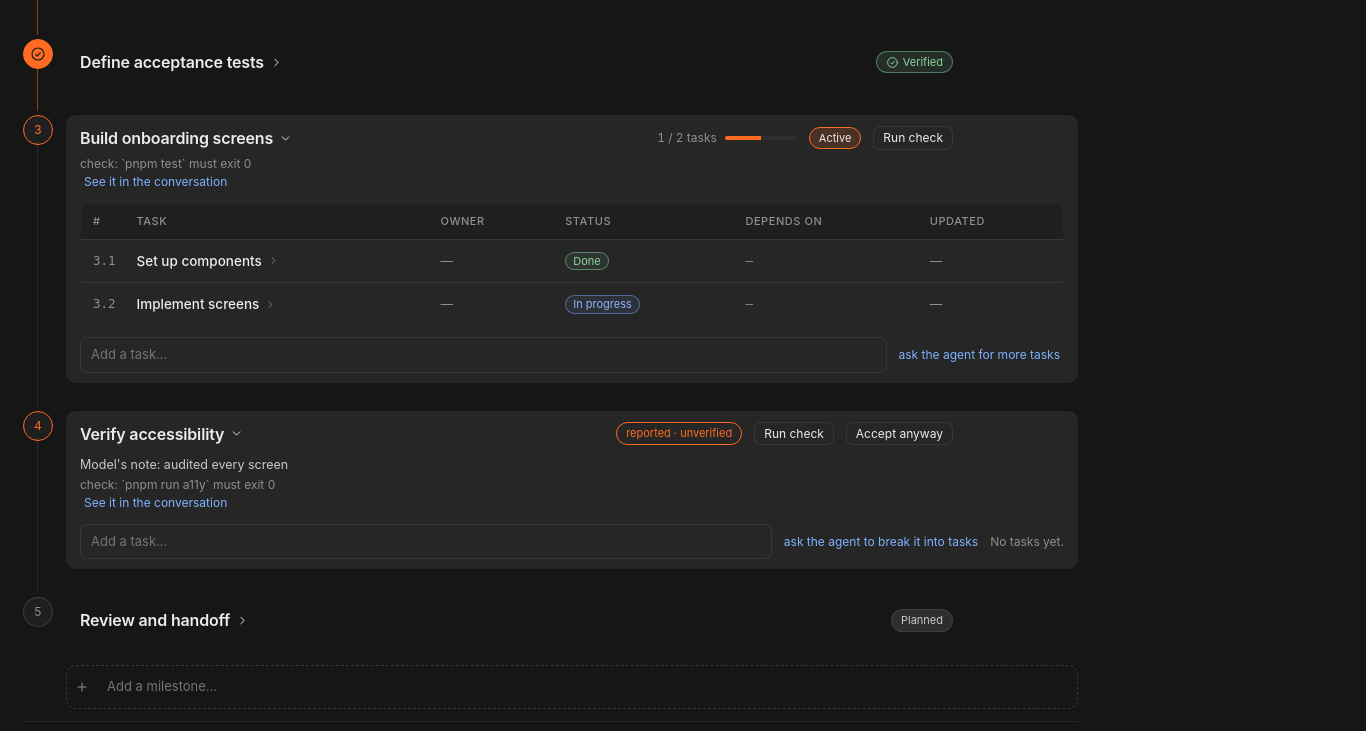
Test: the Big Thing screen › offers to ask the agent for tasks when a milestone has none
(page scrolled)
What coordinates should you click on to do the following:
click the button "Review and handoff"
I would click on:
 (155, 620)
Its box is [80,606,879,634].
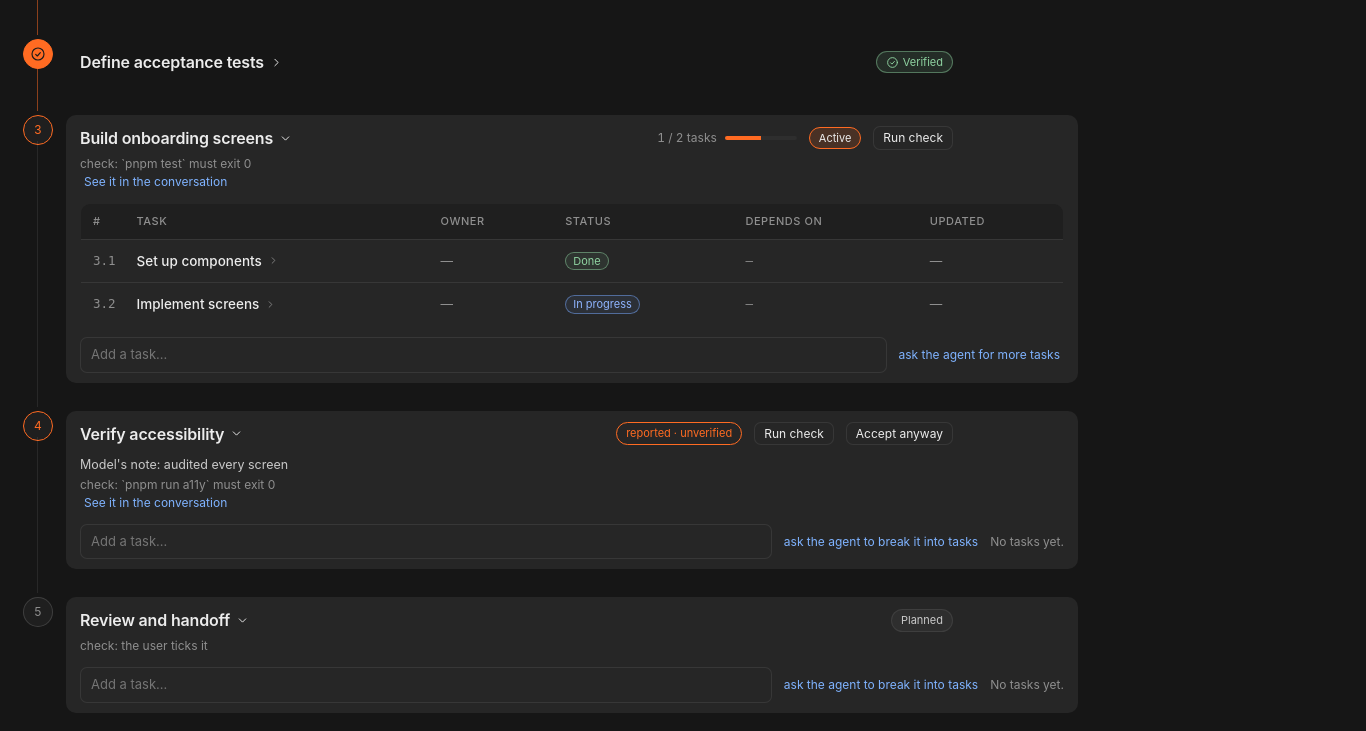
Expected: the button "ask the agent to break it into tasks" below "Planned" is shown, [780,676,982,694]
Expected: the text "No tasks yet." below "Planned" is shown, [990,677,1064,692]
